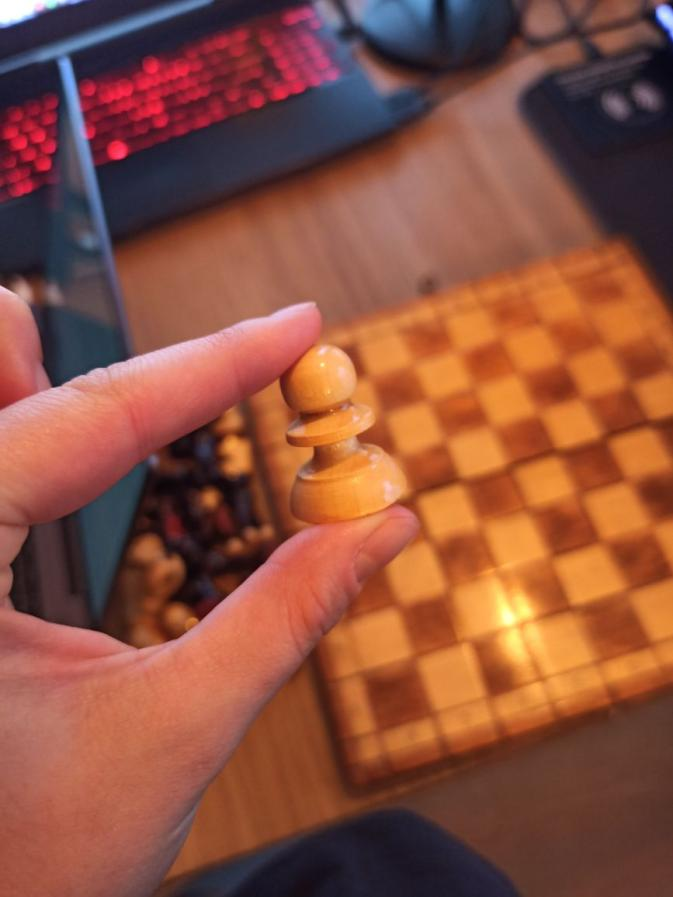wpawn: (281, 347, 412, 524)
